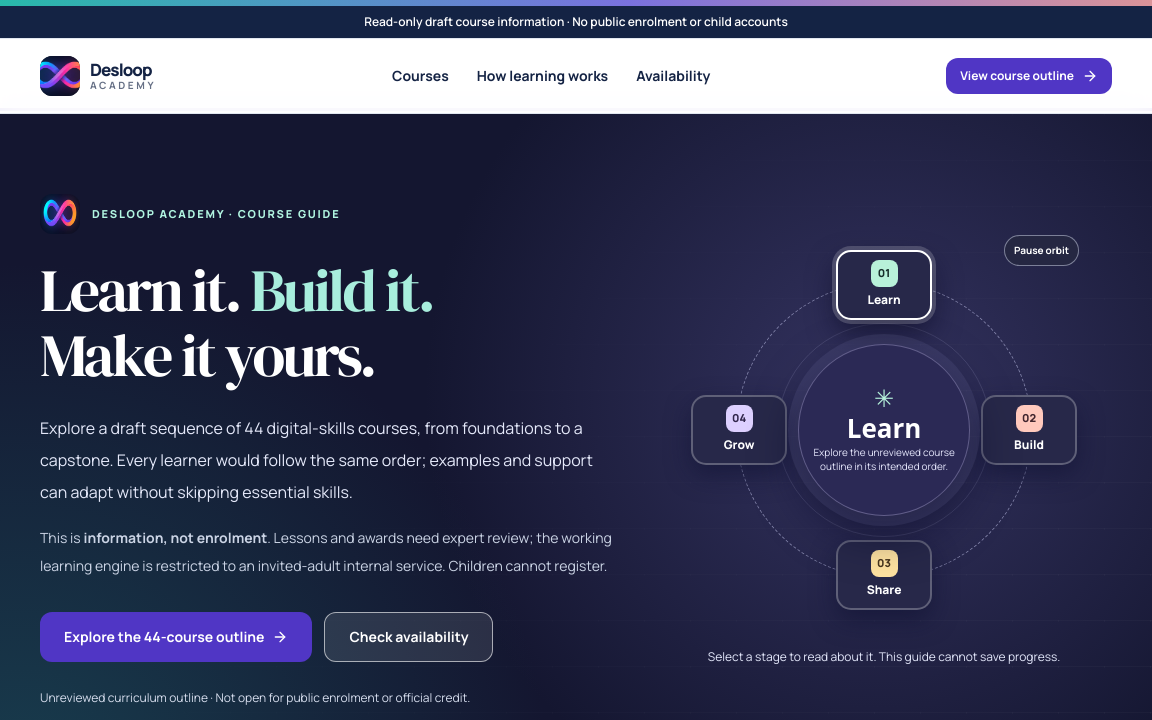
Scenario: isolated Render read-only guide › shows the actual brand and ordered draft catalogue without a private account entry
Expected: the heading "Learn it. Build it. Make it yours." is shown, [40,249,433,396]
What coordinates should you click on to do the following:
click the link "Explore the 44-course outline"
I would click on:
 (176, 637)
Its box is [40,612,312,662].
(page scrolled)
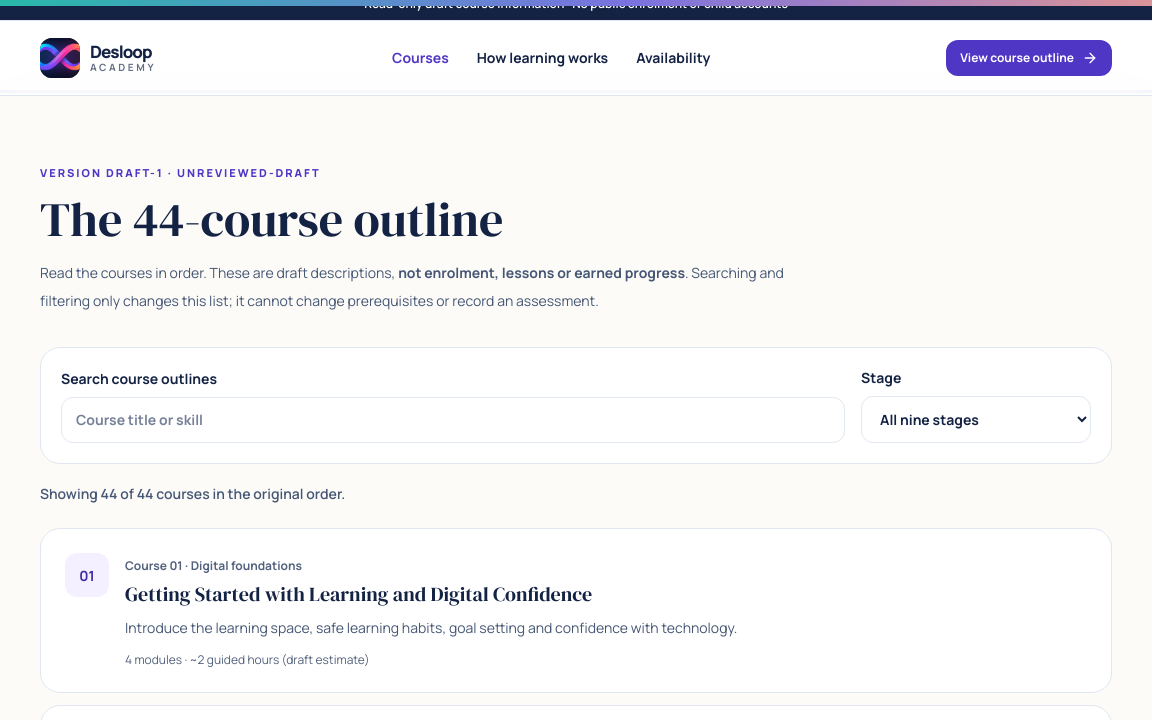
Expected: the message shows "Showing 44 of 44 courses", [40,484,345,504]
Expected: the number of list items is 44
